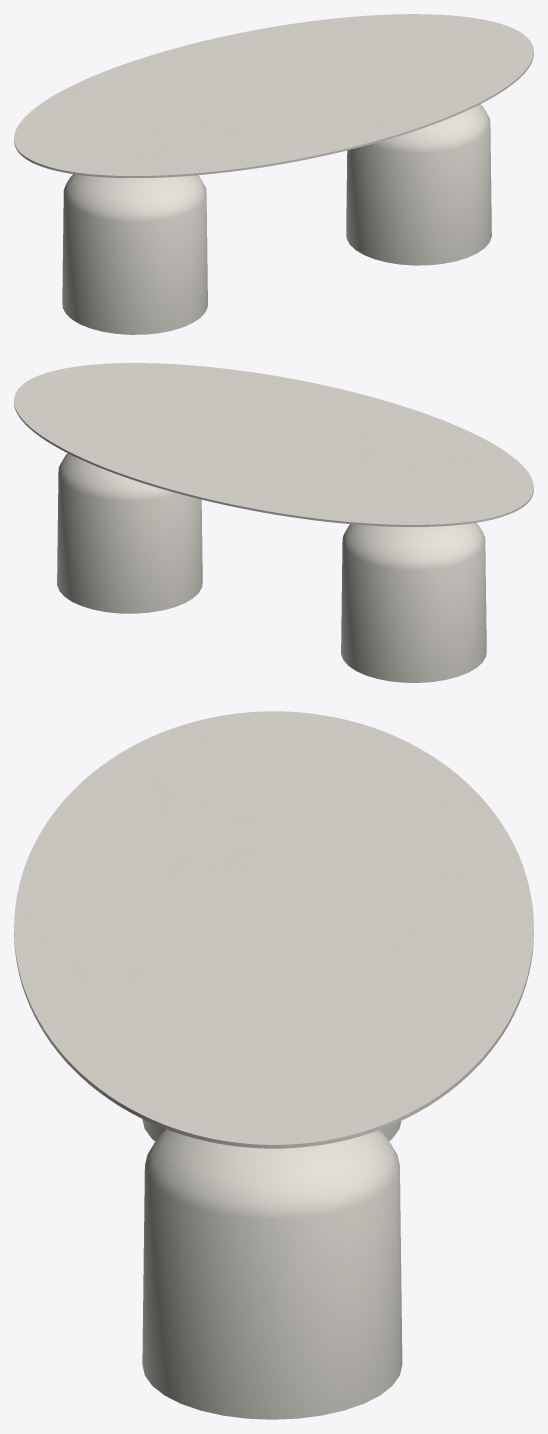
Rendered from pale_ellips_facet_tornado.glb.
The picture shows the model from 3 angles, top to bottom: view 1: azimuth 30°, elevation 25°; view 2: azimuth 150°, elevation 25°; view 3: azimuth 270°, elevation 25°; orthographic projection. The views are drawn at different scales.
Visible parts, largest first — view 1: facet_ellips, tornado; view 2: facet_ellips, tornado; view 3: facet_ellips, tornado.
Part boxes in pixels (x1=…): facet_ellips: x1=14, y1=14, x2=533, y2=177; tornado: x1=62, y1=104, x2=491, y2=334; facet_ellips: x1=14, y1=363, x2=533, y2=526; tornado: x1=57, y1=453, x2=486, y2=682; facet_ellips: x1=14, y1=711, x2=533, y2=1148; tornado: x1=142, y1=1119, x2=402, y2=1419.
Size of the model in its own units: 7.5 by 2.51 by 3.8.
Materials: 1 (1 with a texture image).
